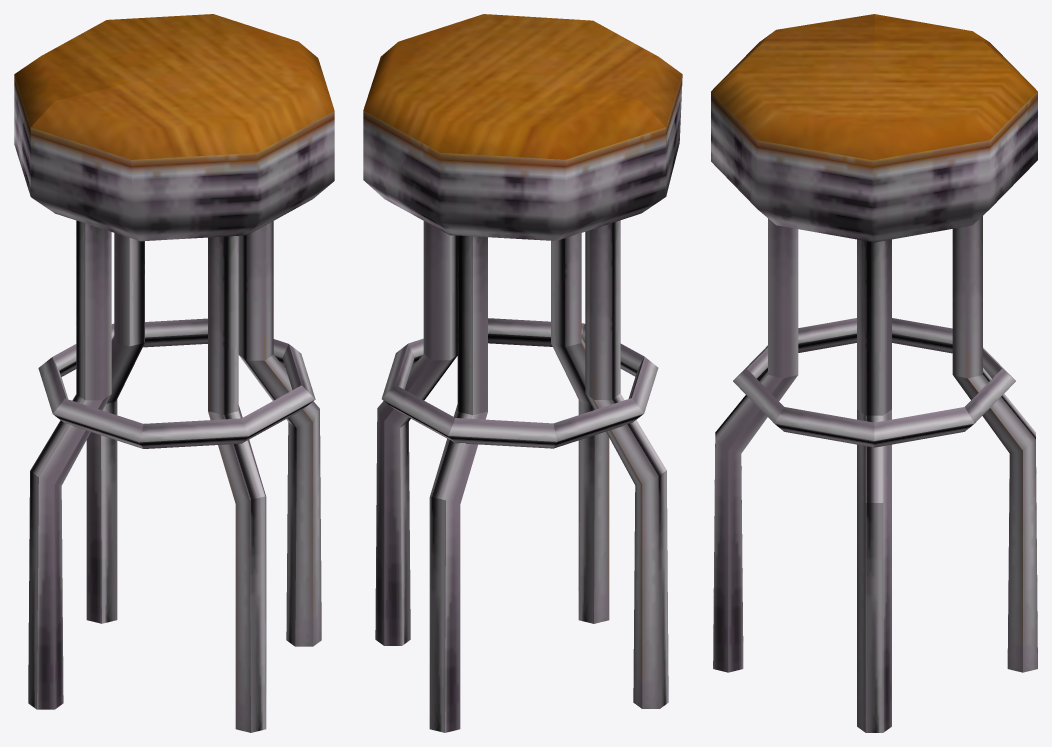
The model's file is barstool2.fbx.
3 renders of one model, left to right at view 1: azimuth 30°, elevation 25°; view 2: azimuth 150°, elevation 25°; view 3: azimuth 270°, elevation 25°, orthographic.
Visible parts, largest first — view 1: mesh_0; view 2: mesh_0; view 3: mesh_0.
Boxes of the visible parts, box(x1,y1,x2,y2) form: mesh_0: box(14, 14, 334, 732); mesh_0: box(363, 14, 682, 732); mesh_0: box(711, 14, 1037, 732).
Size of the model in its own units: 40 by 80 by 40.
Materials: 1 (1 with a texture image).
